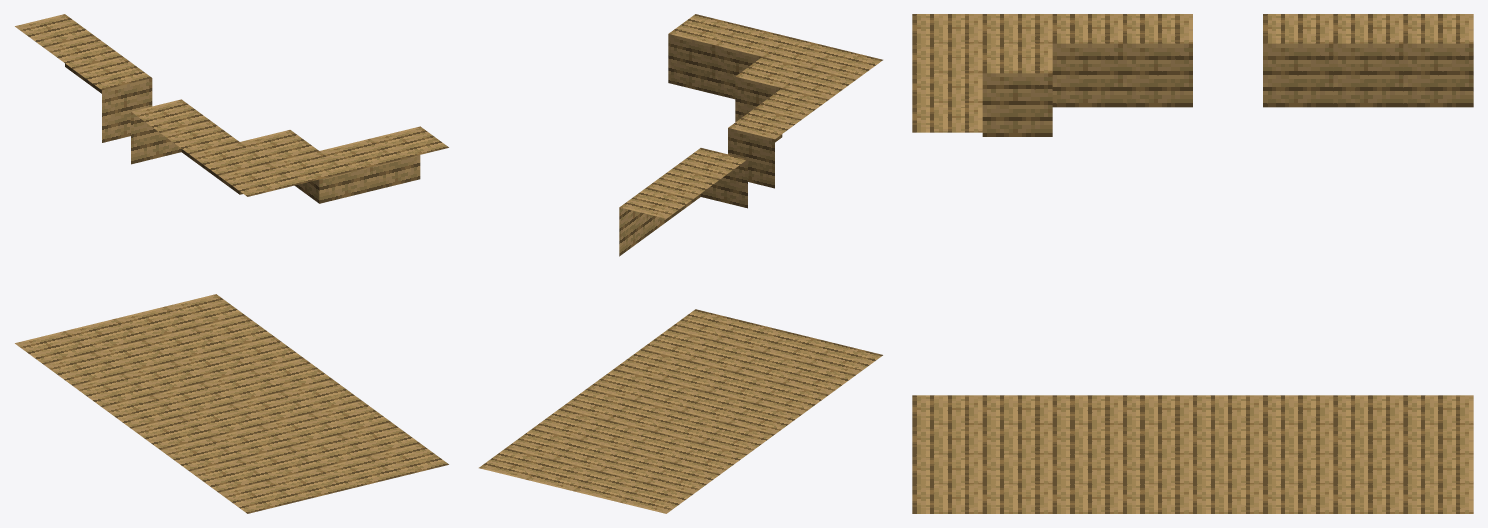
File: Oak_Planks_Chunk_34_2.fbx
3 views of the same model, side by side, from view 1: azimuth 30°, elevation 25°; view 2: azimuth 150°, elevation 25°; view 3: azimuth 270°, elevation 25° (orthographic). The views are drawn at different scales.
Parts seen in each view (by area): view 1: Oak_Planks_Chunk_34_2; view 2: Oak_Planks_Chunk_34_2; view 3: Oak_Planks_Chunk_34_2.
Part boxes in pixels (<box>): Oak_Planks_Chunk_34_2: <box>15,14,448,513</box>; Oak_Planks_Chunk_34_2: <box>479,14,882,513</box>; Oak_Planks_Chunk_34_2: <box>912,14,1473,513</box>.
Bounding box in the file's own units: 400 × 600 × 800.
1 material, 1 textured.
